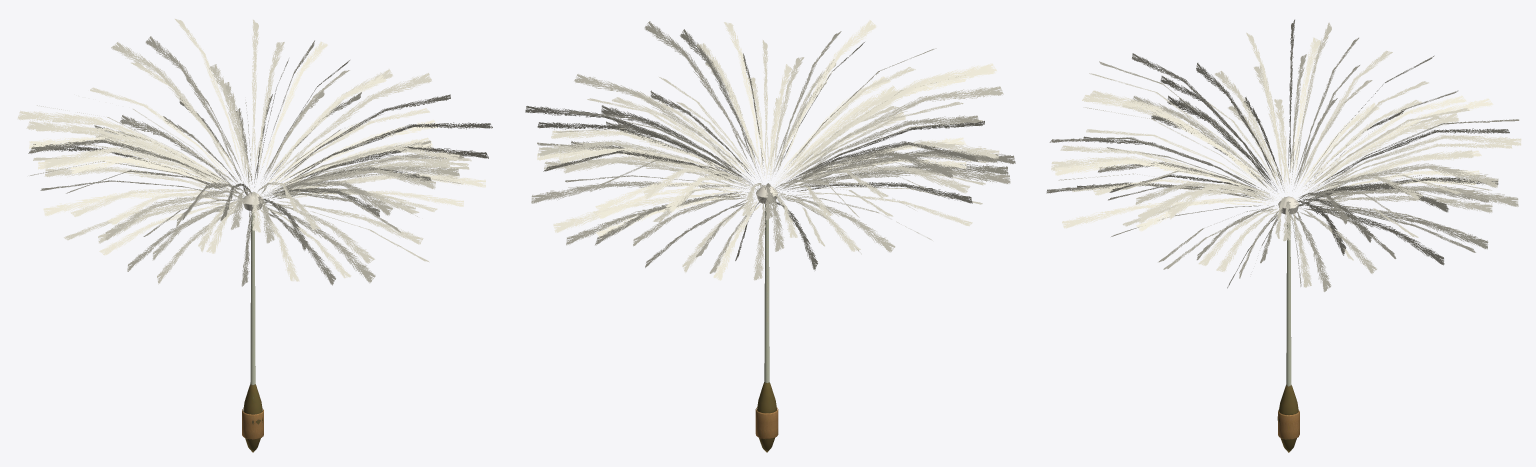
Rendered from dandelion_glider.glb.
The picture shows the model from 3 angles, left to right: view 1: azimuth 30°, elevation 25°; view 2: azimuth 150°, elevation 25°; view 3: azimuth 270°, elevation 25°; orthographic projection. The views are drawn at different scales.
Visible parts, largest first — view 1: dandelion_glider; view 2: dandelion_glider; view 3: dandelion_glider.
Boxes of the visible parts, <box> form: dandelion_glider: <box>17,19,492,452</box>; dandelion_glider: <box>525,20,1015,452</box>; dandelion_glider: <box>1046,19,1521,452</box>.
Size of the model in its own units: 1.24 by 0.9752 by 1.23.
Materials: 2 (2 with a texture image).
